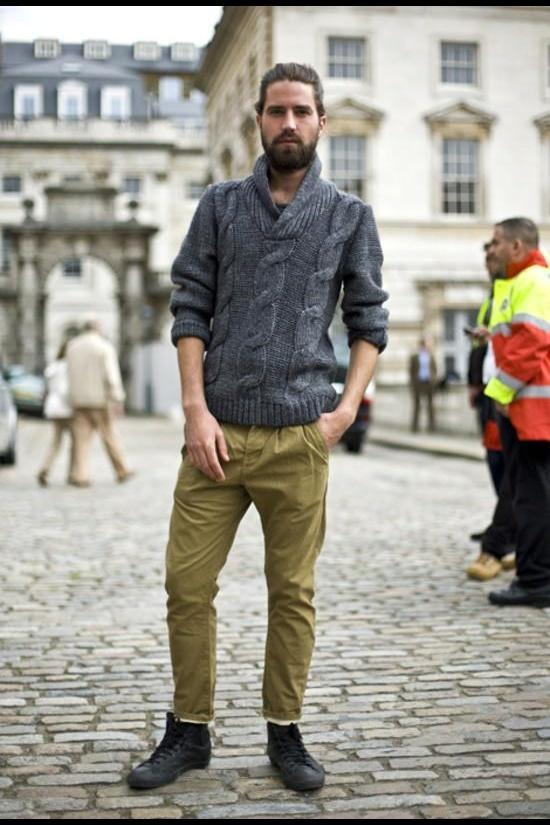pants: (164, 418, 330, 722)
sweater: (170, 154, 390, 429)
